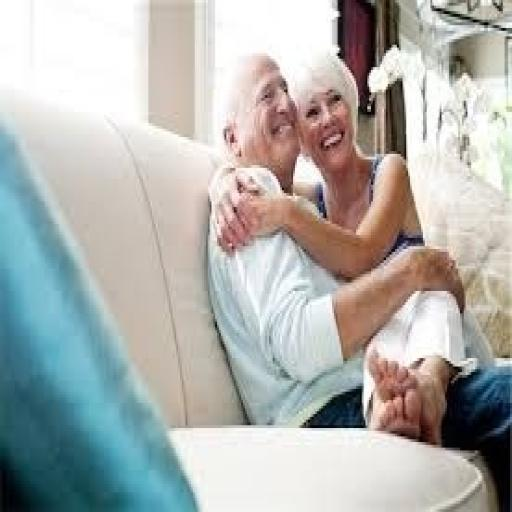hugging: (206, 45, 510, 453)
